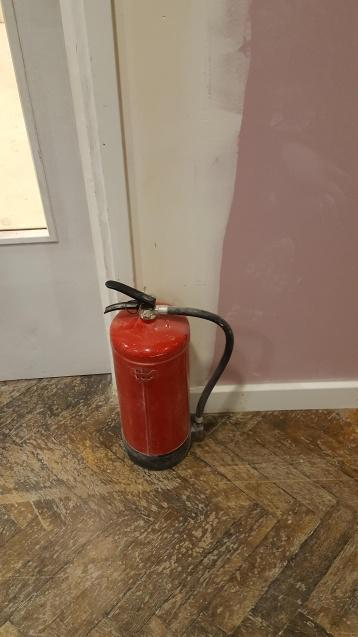APAR: (103, 280, 192, 472)
